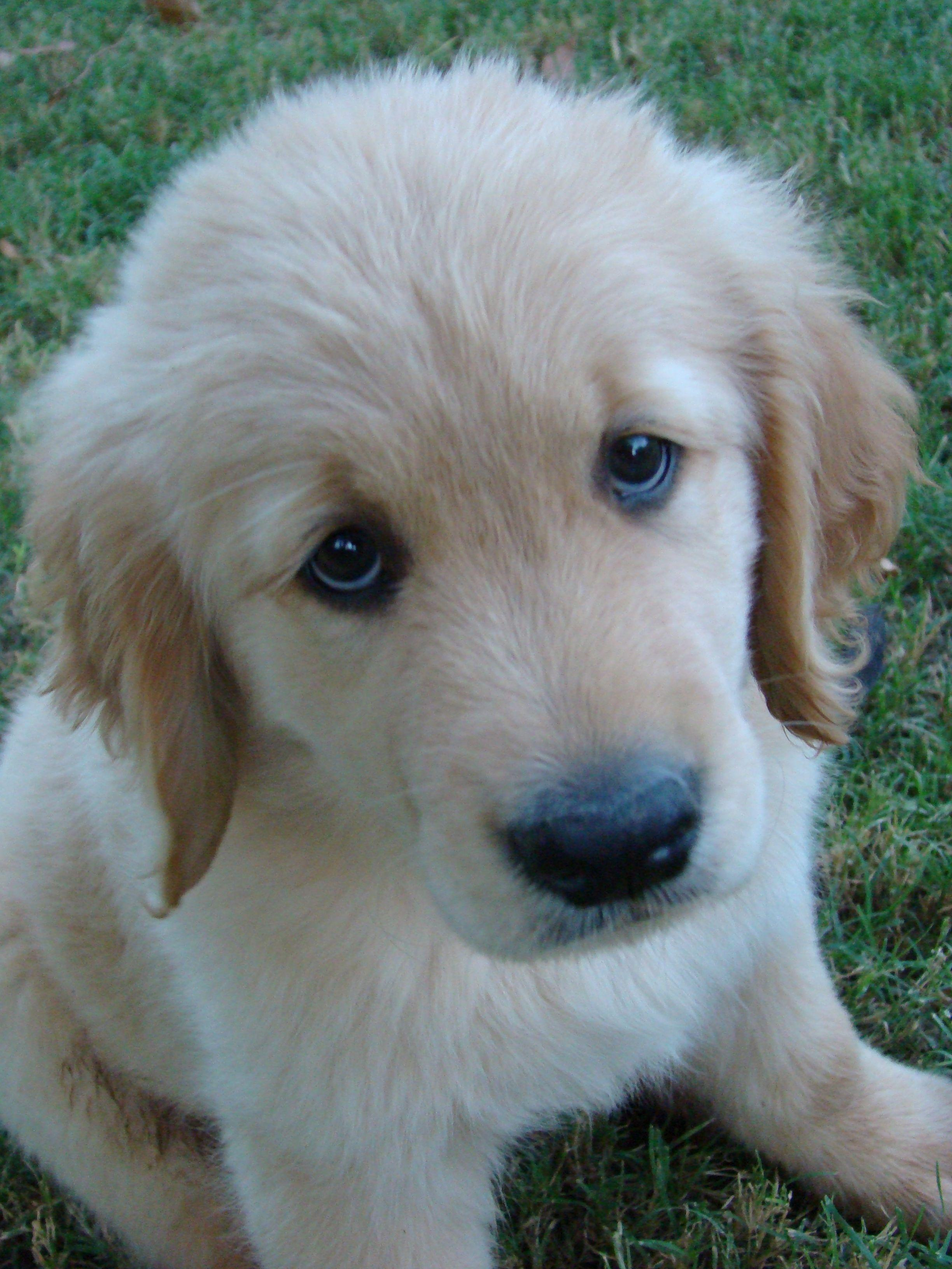puppy-dog: (0, 45, 952, 1269)
